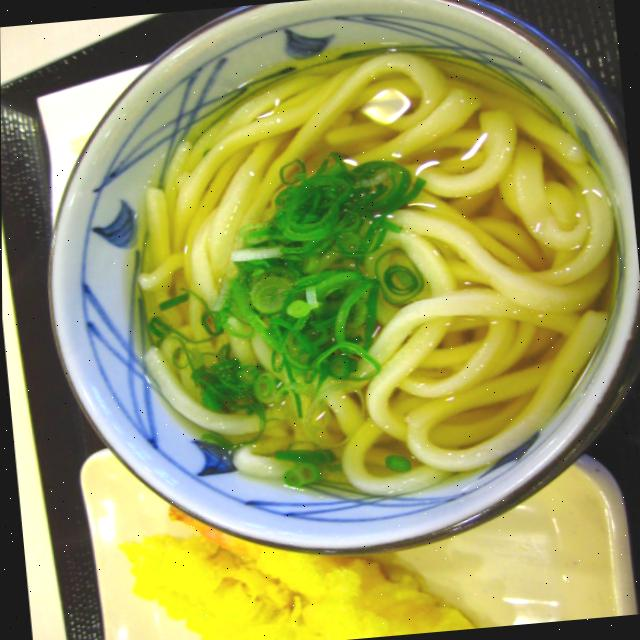面条主食: (54, 0, 640, 553)
